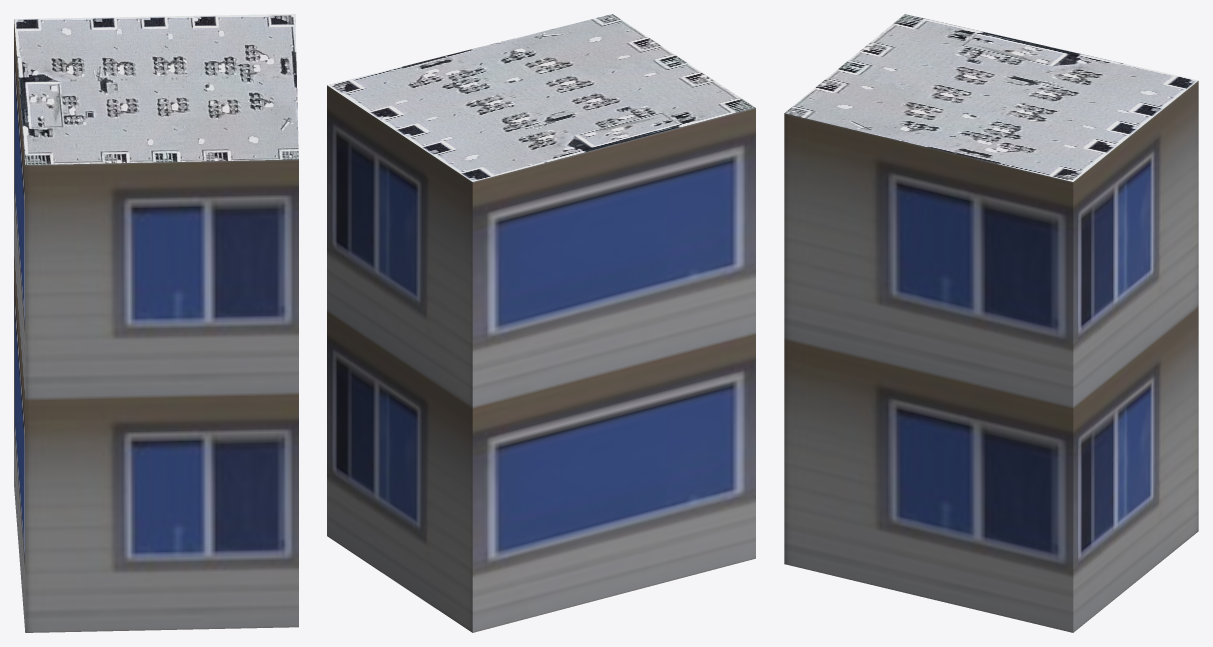
The model's file is ResTex__4041.fbx.
3 renders of one model, left to right at view 1: azimuth 30°, elevation 25°; view 2: azimuth 150°, elevation 25°; view 3: azimuth 270°, elevation 25°, orthographic. The views are drawn at different scales.
Parts seen in each view (by area): view 1: CityEngineMaterial_23_m, CityEngineMaterial_4_m; view 2: CityEngineMaterial_23_m, CityEngineMaterial_4_m; view 3: CityEngineMaterial_23_m, CityEngineMaterial_4_m.
Boxes of the visible parts, <box> form: CityEngineMaterial_23_m: <box>14,19,298,632</box>; CityEngineMaterial_4_m: <box>14,14,298,164</box>; CityEngineMaterial_23_m: <box>327,85,755,632</box>; CityEngineMaterial_4_m: <box>327,14,755,181</box>; CityEngineMaterial_23_m: <box>784,81,1198,632</box>; CityEngineMaterial_4_m: <box>784,14,1198,181</box>.
Bounding box in the file's own units: 4.8 × 6 × 5.
Materials: 2 (2 with a texture image).
